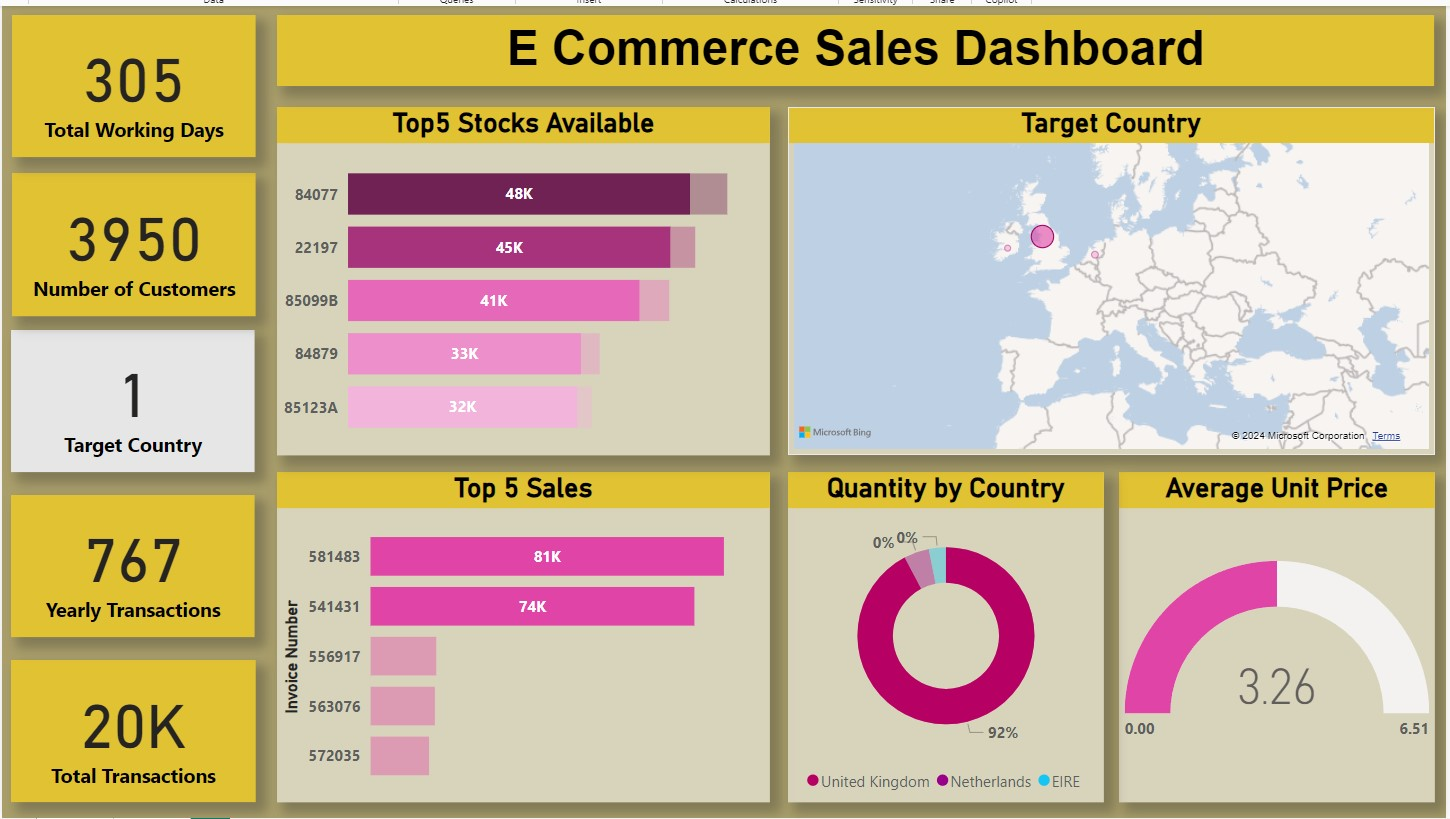

The page's visual inventory and layout, read from the dashboard file:
{"tool":"powerbi","page":{"name":"Page 2","canvas":[1280,720],"ordinal":1},"visuals":[{"type":"card","fields":{"Values":["Count(E-Comm Sales data.InvoiceNo)"]},"box":[7.8,579.7,216.9,126.4],"z":0},{"type":"card","fields":{"Values":["Count(E-Comm Sales data.Country)"]},"box":[8,287.3,216.4,125.9],"z":1},{"type":"card","fields":{"Values":["Count(E-Comm Sales data.CustomerID)"]},"box":[8.9,148.1,216.4,126.8],"z":2},{"type":"card","fields":{"Values":["Count(E-Comm Sales data.Date)"]},"box":[8.9,8,216.4,125.9],"z":3},{"type":"card","fields":{"Values":["Count(E-Comm Sales data.Time)"]},"box":[8,433.6,216.4,125.9],"z":4},{"type":"gauge","fields":{"Y":["Avg(E-Comm Sales data.UnitPrice)"]},"box":[990.2,413.4,280.1,292.8],"z":5},{"type":"clusteredBarChart","title":"Top 5 Sales","fields":{"Y":["Sum(E-Comm Sales data.Quantity)"],"Category":["E-Comm Sales data.InvoiceNo"]},"box":[244.1,413.4,436.7,292.8],"z":6},{"type":"donutChart","title":"Quantity by Country","fields":{"Category":["E-Comm Sales data.Country"],"Y":["Sum(E-Comm Sales data.Quantity)"]},"box":[697.4,413.4,280.1,292.8],"z":7},{"type":"clusteredBarChart","title":"Top5 Stocks Available","fields":{"Category":["E-Comm Sales data.StockCode"],"Y":["Sum(E-Comm Sales data.Quantity)"]},"box":[243.8,89.6,437.1,309.5],"z":8},{"type":"map","title":"Target Country","fields":{"Category":["E-Comm Sales data.Country"],"Size":["Sum(E-Comm Sales data.Quantity)"]},"box":[697.4,89.5,572.9,308.3],"z":9},{"type":"textbox","box":[244.1,7.8,1026.1,63.2],"z":10}]}

Visuals, with their boxes on the page's 1280x720 design canvas (x1, y1, x2, y2). These are canvas units, not pixel positions in the 1450x819 screenshot, which may show the page scaled, cropped or inside an application window:
card - Count(E-Comm Sales data.InvoiceNo): crop(8, 580, 225, 706)
card - Count(E-Comm Sales data.Country): crop(8, 287, 224, 413)
card - Count(E-Comm Sales data.CustomerID): crop(9, 148, 225, 275)
card - Count(E-Comm Sales data.Date): crop(9, 8, 225, 134)
card - Count(E-Comm Sales data.Time): crop(8, 434, 224, 560)
gauge - Avg(E-Comm Sales data.UnitPrice): crop(990, 413, 1270, 706)
"Top 5 Sales" clusteredBarChart: crop(244, 413, 681, 706)
"Quantity by Country" donutChart: crop(697, 413, 978, 706)
"Top5 Stocks Available" clusteredBarChart: crop(244, 90, 681, 399)
"Target Country" map: crop(697, 90, 1270, 398)
textbox: crop(244, 8, 1270, 71)
